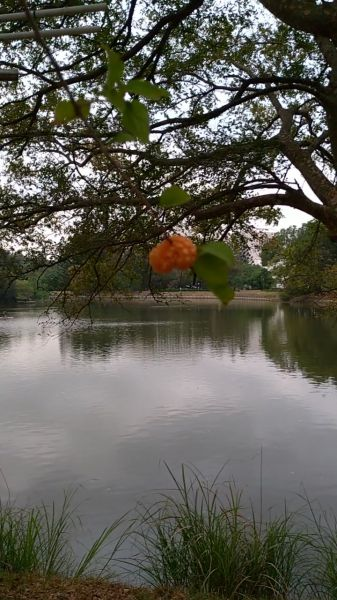eggs: (142, 228, 203, 274)
